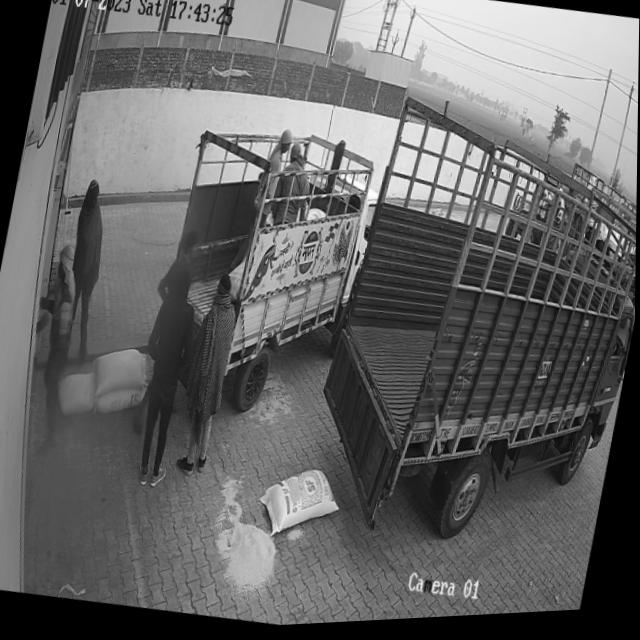sack: (254, 463, 346, 548), (88, 343, 152, 405), (52, 367, 101, 420), (95, 385, 144, 419)
